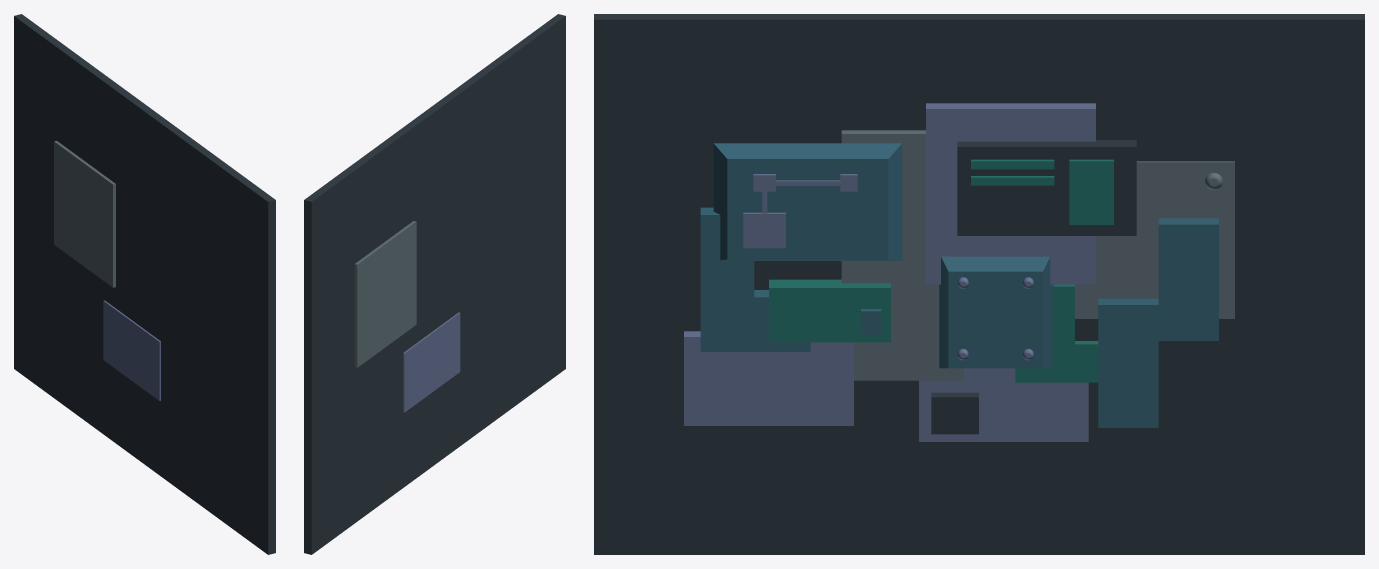
The model's file is Wall_Behind_Title.fbx.
3 renders of one model, left to right at view 1: azimuth 30°, elevation 25°; view 2: azimuth 150°, elevation 25°; view 3: azimuth 270°, elevation 25°, orthographic. The views are drawn at different scales.
Parts seen in each view (by area): view 1: pCube101, pCube121, pCube123; view 2: pCube101, pCube121, pCube123; view 3: pCube101, pCube102, pCube122, pCube112, pCube119, pCube113, pCube103, pCube104, pCube121, pCube123, pCube118, pCube110 (+5 smaller).
Part boxes in pixels (left/top/right/bottom): pCube101: left=14, top=14, right=275, bottom=554; pCube121: left=54, top=140, right=115, bottom=287; pCube123: left=103, top=300, right=160, bottom=400; pCube101: left=304, top=14, right=565, bottom=554; pCube121: left=354, top=221, right=416, bottom=367; pCube123: left=403, top=312, right=460, bottom=412; pCube101: left=594, top=14, right=1364, bottom=554; pCube102: left=713, top=143, right=902, bottom=260; pCube122: left=1098, top=218, right=1218, bottom=427; pCube112: left=926, top=103, right=1095, bottom=284; pCube119: left=684, top=331, right=853, bottom=425; pCube113: left=957, top=140, right=1136, bottom=235; pCube103: left=841, top=130, right=963, bottom=380; pCube104: left=939, top=256, right=1053, bottom=368; pCube121: left=1075, top=161, right=1234, bottom=318; pCube123: left=919, top=368, right=1088, bottom=441; pCube118: left=700, top=207, right=810, bottom=351; pCube110: left=769, top=279, right=890, bottom=342.
Bounding box in the file's own units: 64.49 × 696 × 908.
